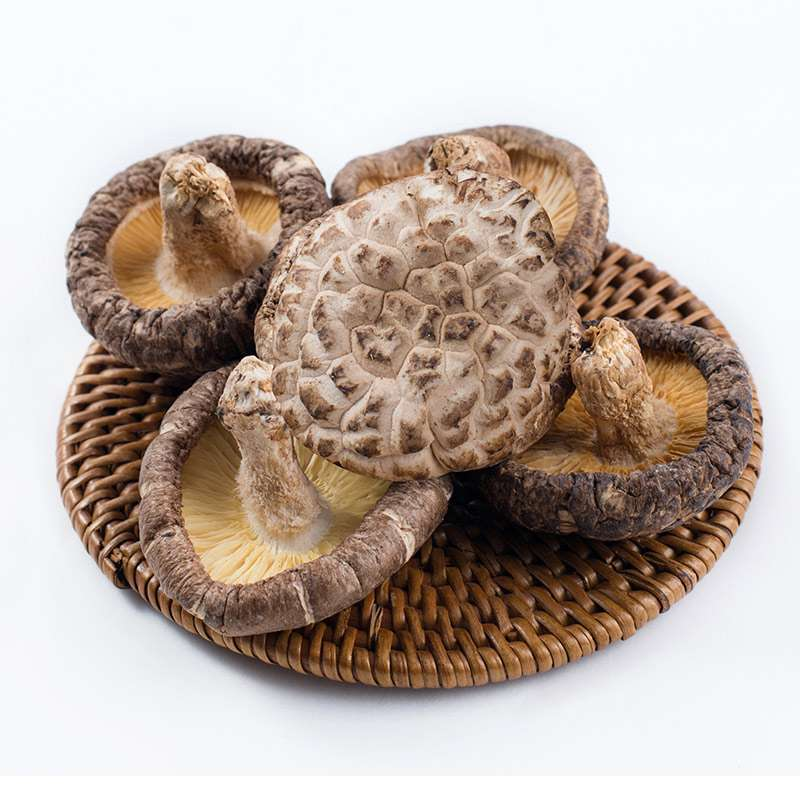H: (263, 172, 571, 477)
